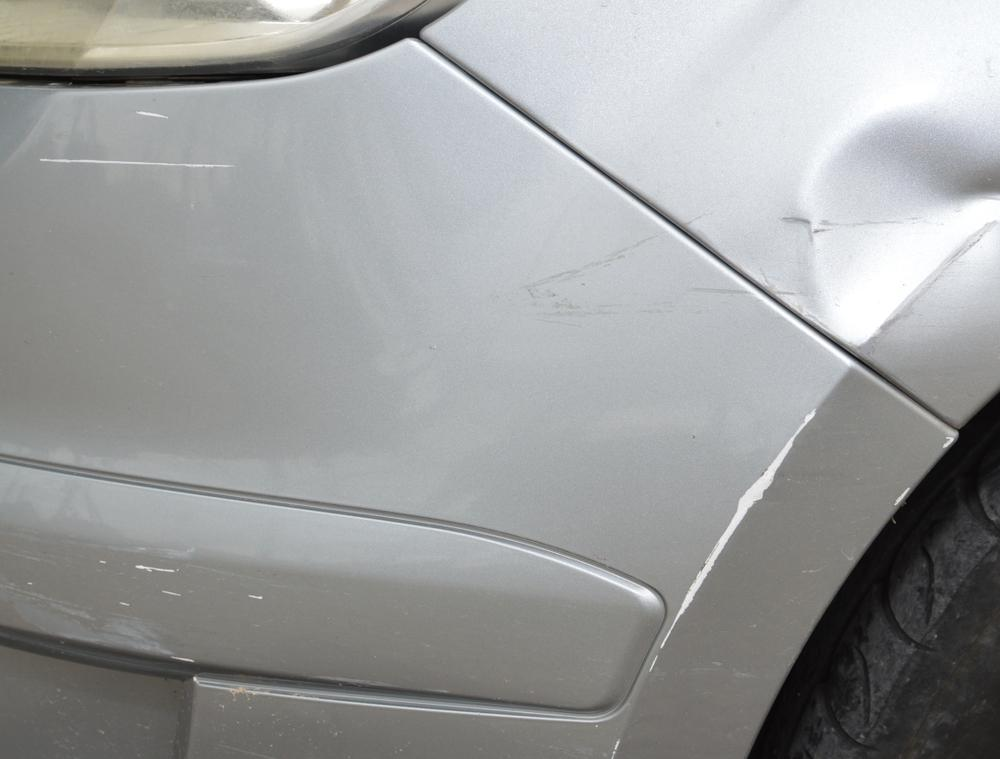dent: (809, 105, 1000, 342)
scratch: (646, 402, 827, 682), (0, 531, 284, 657), (35, 93, 257, 177)
